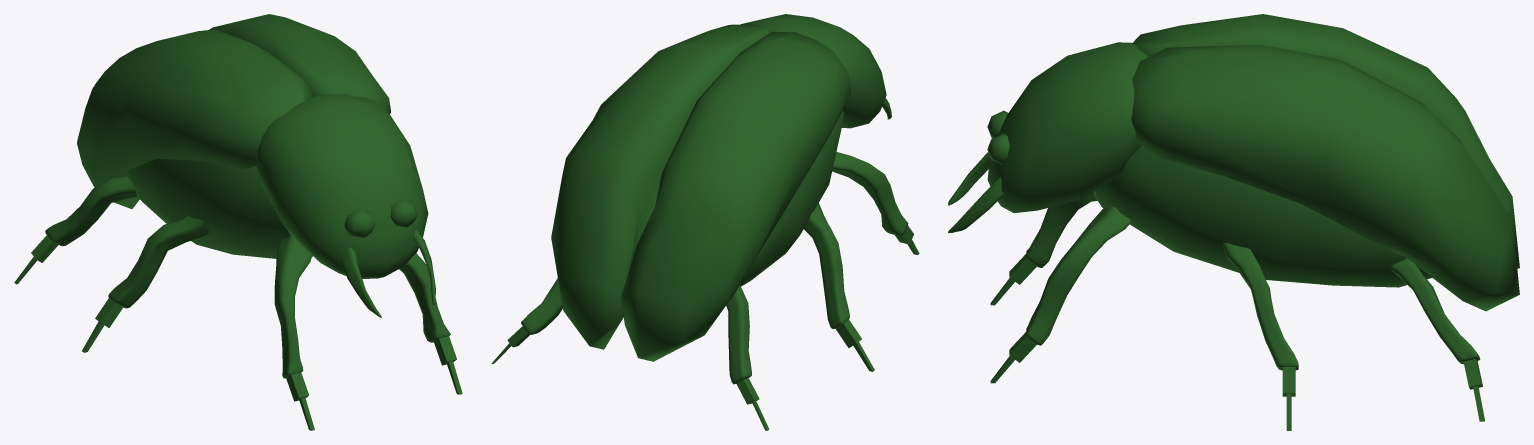
The model's file is Beetle_Model_HG.fbx.
3 renders of one model, left to right at view 1: azimuth 30°, elevation 25°; view 2: azimuth 150°, elevation 25°; view 3: azimuth 270°, elevation 25°, orthographic. The views are drawn at different scales.
Visible parts, largest first — view 1: Beetle_HG; view 2: Beetle_HG; view 3: Beetle_HG.
Boxes of the visible parts, x1,y1,x2,y2 form: Beetle_HG: [14, 14, 462, 430]; Beetle_HG: [491, 14, 919, 430]; Beetle_HG: [948, 14, 1519, 430].
Size of the model in its own units: 0.3283 by 0.2681 by 0.4523.
